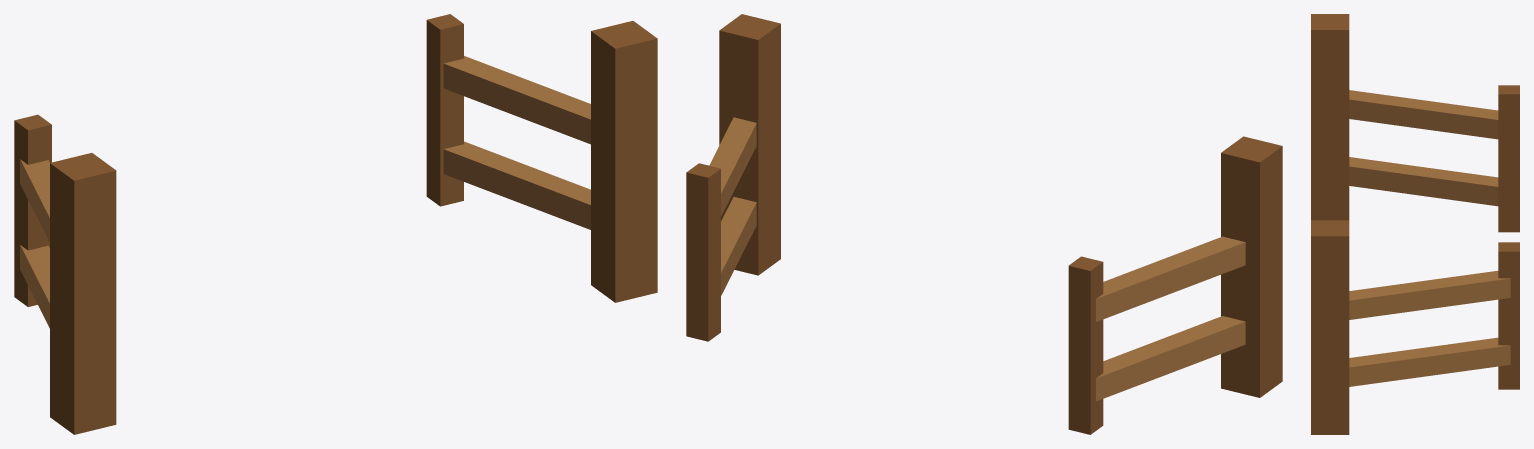
Rendered from fence_gate.glb.
3 views of the same model, side by side, from view 1: azimuth 30°, elevation 25°; view 2: azimuth 150°, elevation 25°; view 3: azimuth 270°, elevation 25° (orthographic). The views are drawn at different scales.
Visible parts, largest first — view 1: Post_1, Post_2.002, Gate_Right_Rail_1, Gate_Right_Rail_2, Gate_Right_Stile, Gate_Left_Stile, Gate_Left_Rail_1, Gate_Left_Rail_2; view 2: Post_1, Post_2.002, Gate_Right_Stile, Gate_Left_Stile, Gate_Left_Rail_2, Gate_Left_Rail_1, Gate_Right_Rail_2, Gate_Right_Rail_1; view 3: Post_2.002, Post_1, Gate_Right_Rail_2, Gate_Right_Rail_1, Gate_Left_Rail_1, Gate_Left_Rail_2, Gate_Left_Stile, Gate_Right_Stile.
Part boxes in pixels (x1,y1,x2,y2): Post_1: [50, 153, 116, 434]; Post_2.002: [591, 21, 657, 302]; Gate_Right_Rail_1: [443, 141, 590, 229]; Gate_Right_Rail_2: [443, 56, 590, 144]; Gate_Right_Stile: [426, 14, 463, 206]; Gate_Left_Stile: [14, 114, 51, 306]; Gate_Left_Rail_1: [20, 245, 49, 328]; Gate_Left_Rail_2: [20, 159, 49, 242]; Post_1: [1221, 136, 1282, 397]; Post_2.002: [719, 14, 780, 275]; Gate_Right_Stile: [686, 163, 720, 341]; Gate_Left_Stile: [1068, 256, 1103, 434]; Gate_Left_Rail_2: [1096, 236, 1245, 321]; Gate_Left_Rail_1: [1096, 316, 1245, 401]; Gate_Right_Rail_2: [709, 117, 756, 216]; Gate_Right_Rail_1: [721, 197, 756, 295]; Post_2.002: [1311, 220, 1349, 434]; Post_1: [1311, 14, 1349, 220]; Gate_Right_Rail_2: [1349, 270, 1510, 319]; Gate_Right_Rail_1: [1349, 337, 1510, 386]; Gate_Left_Rail_1: [1349, 157, 1498, 206]; Gate_Left_Rail_2: [1349, 90, 1498, 139]; Gate_Left_Stile: [1498, 85, 1519, 232]; Gate_Right_Stile: [1498, 242, 1519, 389].
Size of the model in its own units: 4.42 by 1.84 by 1.75.
